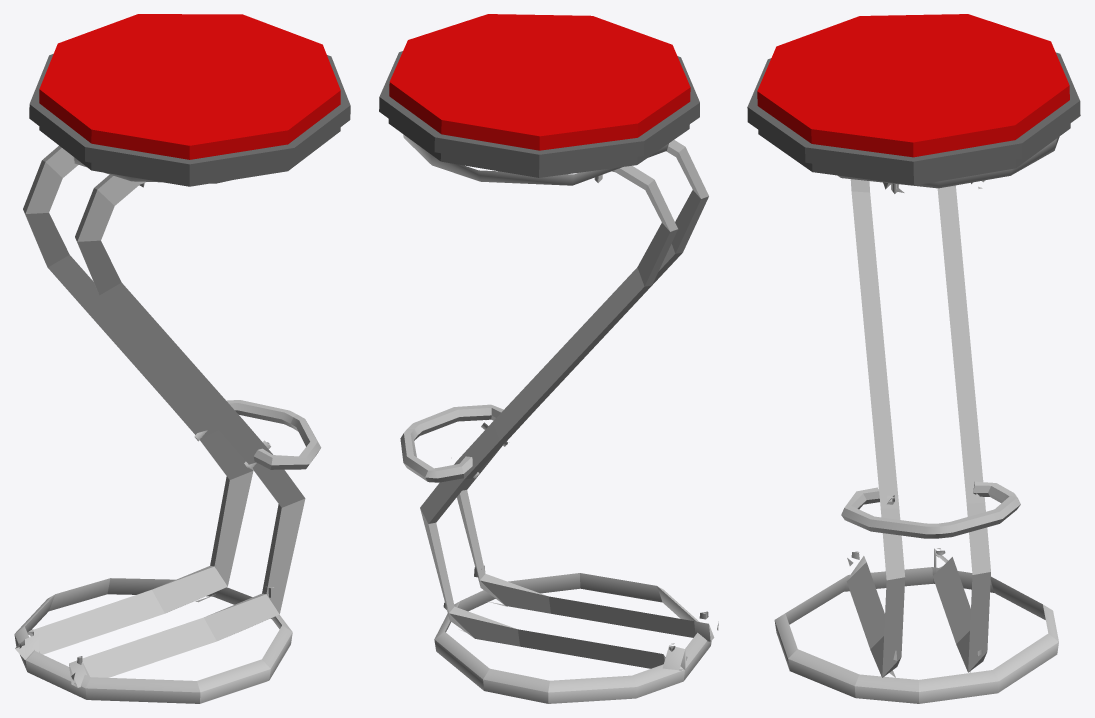
Rendered from Stool.fbx.
3 views of the same model, side by side, from view 1: azimuth 30°, elevation 25°; view 2: azimuth 150°, elevation 25°; view 3: azimuth 270°, elevation 25° (orthographic). The views are drawn at different scales.
Parts seen in each view (by area): view 1: Stool1; view 2: Stool1; view 3: Stool1.
Boxes of the visible parts, box(x1,y1,x2,y2) form: Stool1: box(14, 14, 350, 703); Stool1: box(379, 14, 718, 703); Stool1: box(747, 14, 1080, 703).
Size of the model in its own units: 129 by 233 by 120.
